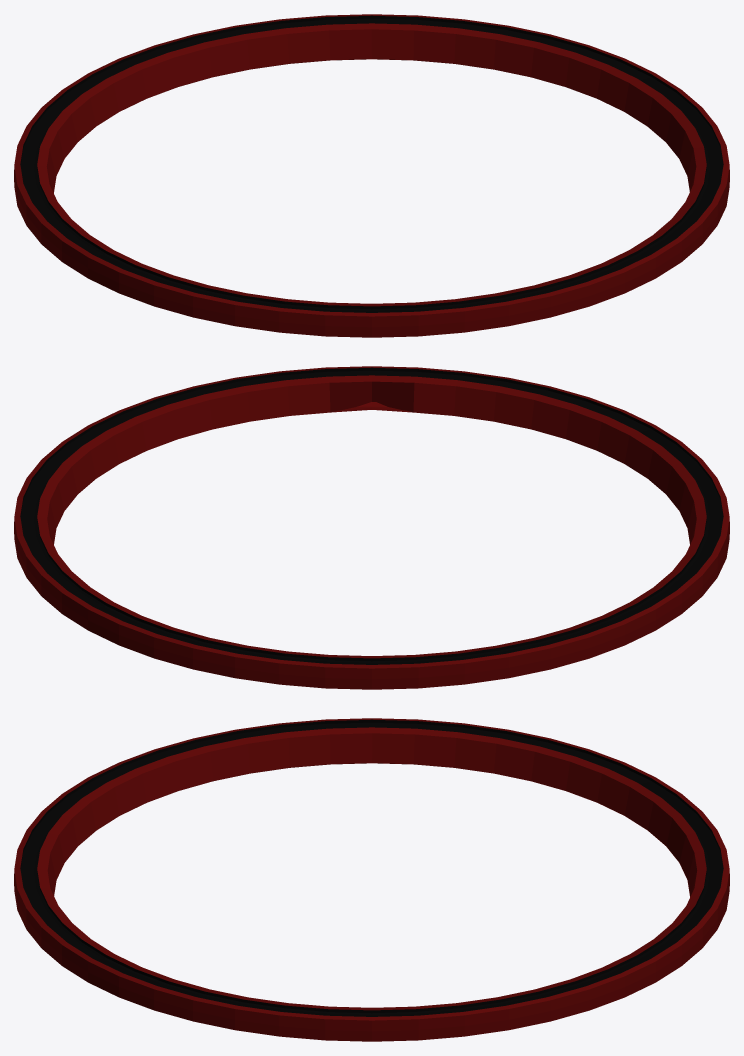
Rendered from spinnerTrapHingeFixed.fbx.
The picture shows the model from 3 angles, top to bottom: view 1: azimuth 30°, elevation 25°; view 2: azimuth 150°, elevation 25°; view 3: azimuth 270°, elevation 25°; orthographic projection.
Parts seen in each view (by area): view 1: Torus, Torus.001; view 2: Torus, Torus.001; view 3: Torus, Torus.001.
Boxes of the visible parts, x1,y1,x2,y2 form: Torus: (14, 14, 729, 337); Torus.001: (20, 15, 723, 312); Torus: (14, 366, 729, 689); Torus.001: (20, 367, 723, 664); Torus: (14, 718, 729, 1041); Torus.001: (20, 719, 723, 1016).
Bounding box in the file's own units: 1533 × 72.83 × 1533.
